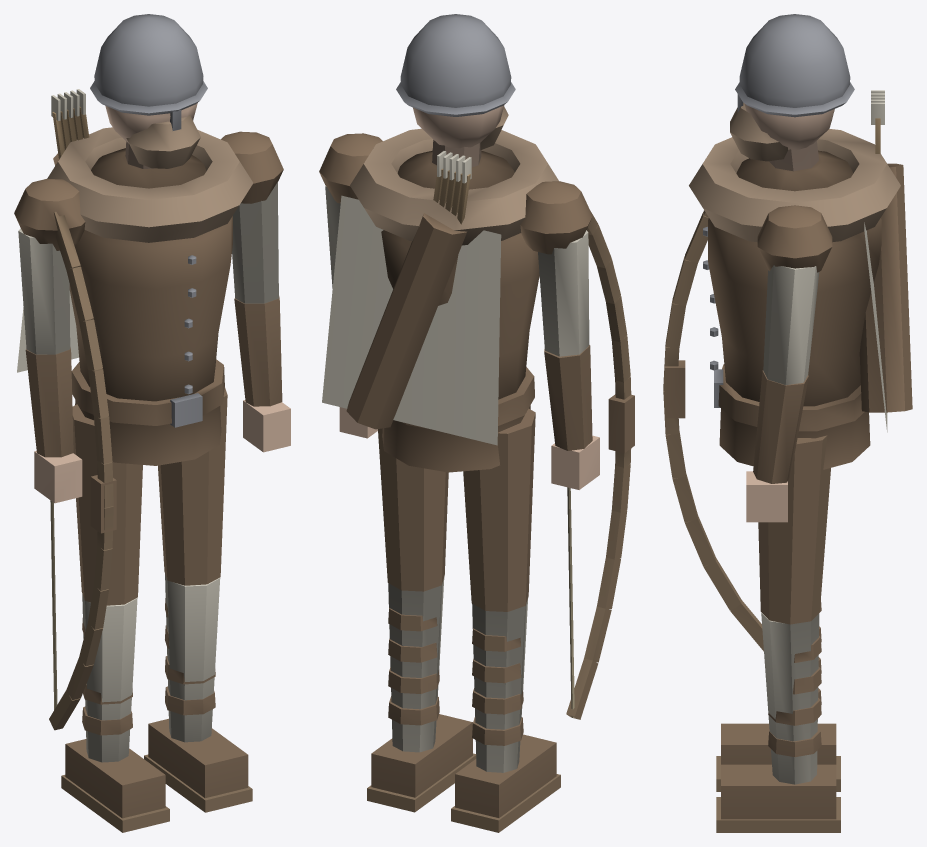
The model's file is dh_archer.glb.
3 renders of one model, left to right at view 1: azimuth 30°, elevation 25°; view 2: azimuth 150°, elevation 25°; view 3: azimuth 270°, elevation 25°, orthographic.
Visible parts, largest first — view 1: torso, arm_l, leg_r, leg_l, arm_r; view 2: torso, leg_l, arm_l, leg_r, arm_r; view 3: torso, leg_r, arm_r, arm_l, leg_l.
Part boxes in pixels (x1,y1,x2,y2): torso: [17, 14, 253, 465]; arm_l: [14, 178, 116, 730]; leg_r: [144, 387, 252, 812]; leg_l: [61, 404, 169, 832]; arm_r: [221, 131, 290, 452]; torso: [322, 14, 558, 472]; leg_l: [451, 408, 560, 832]; arm_l: [520, 181, 634, 719]; leg_r: [367, 428, 476, 812]; arm_r: [319, 133, 382, 438]; torso: [689, 14, 912, 469]; leg_r: [716, 435, 840, 832]; arm_r: [746, 205, 832, 522]; arm_l: [663, 210, 763, 651]; leg_l: [716, 600, 840, 791].
Size of the model in its own units: 0.66 by 1.87 by 0.5399.
